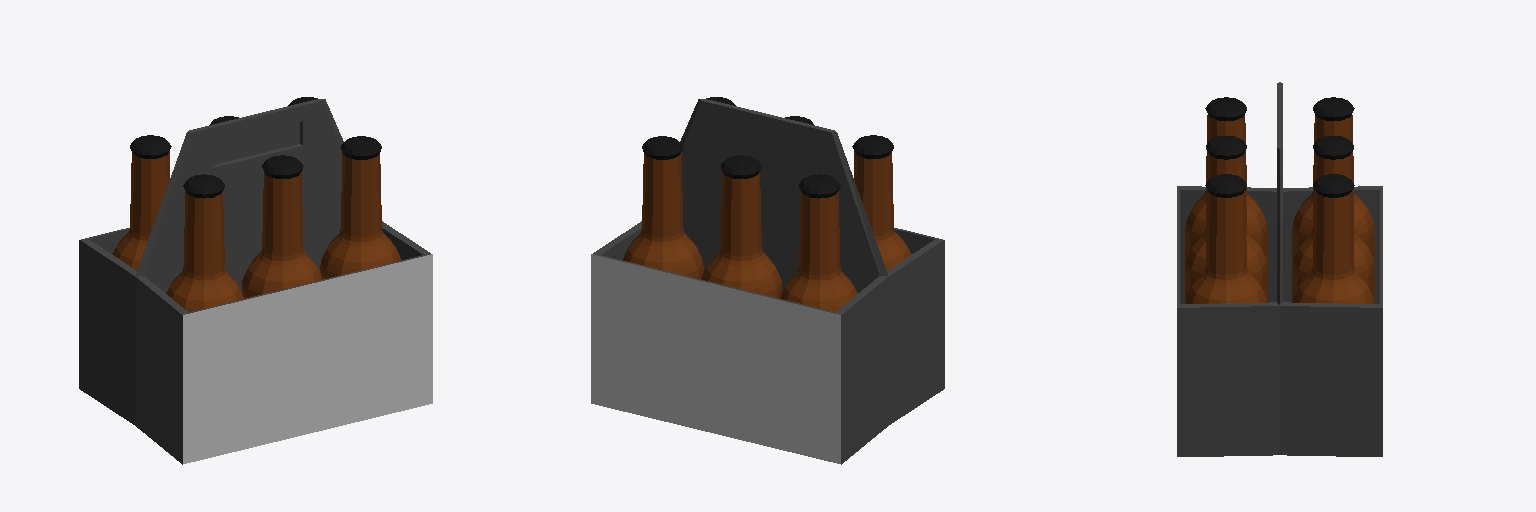
3 renders of one model, left to right at view 1: azimuth 30°, elevation 25°; view 2: azimuth 150°, elevation 25°; view 3: azimuth 270°, elevation 25°, orthographic.
Visible parts, largest first — view 1: Mesh; view 2: Mesh; view 3: Mesh.
Boxes of the visible parts, x1,y1,x2,y2 form: Mesh: [79, 97, 432, 464]; Mesh: [591, 97, 944, 464]; Mesh: [1177, 82, 1382, 456].
Size of the model in its own units: 39.54 by 42.46 by 28.24.
Materials: 1 (1 with a texture image).